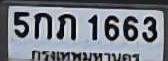1: (87, 14, 96, 39)
3: (141, 15, 156, 41)
5: (13, 11, 28, 37)
6: (122, 15, 137, 40), (104, 14, 118, 40)
A01: (33, 12, 51, 39)
A32: (56, 13, 75, 39)
BKK: (29, 47, 141, 61)
